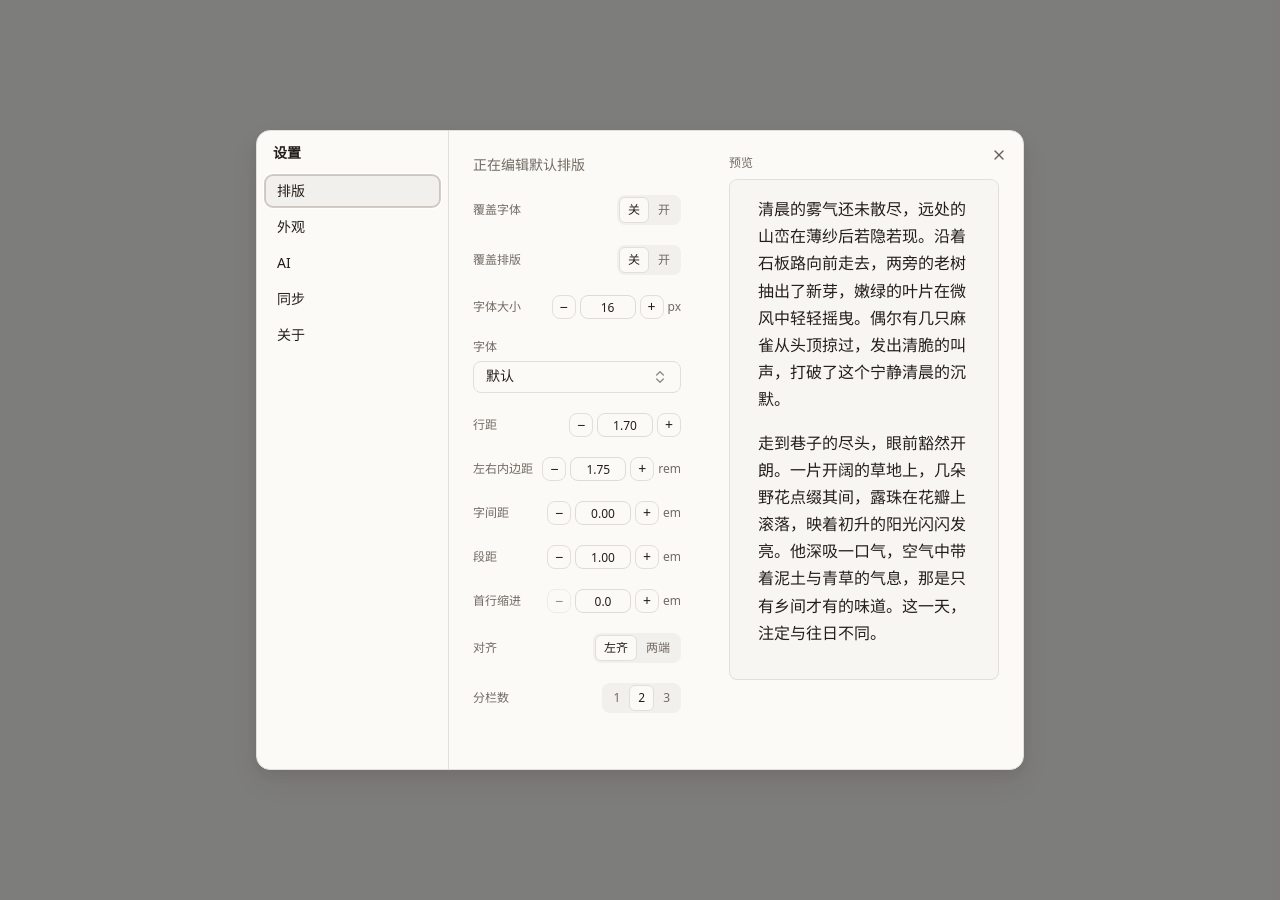
Test: SettingsDialog › commits a typed value on Enter and reverts on Escape without closing
Replace the text in the field named "字体大小" with "20": (608, 307) top-left (580, 295), bottom-right (636, 319)
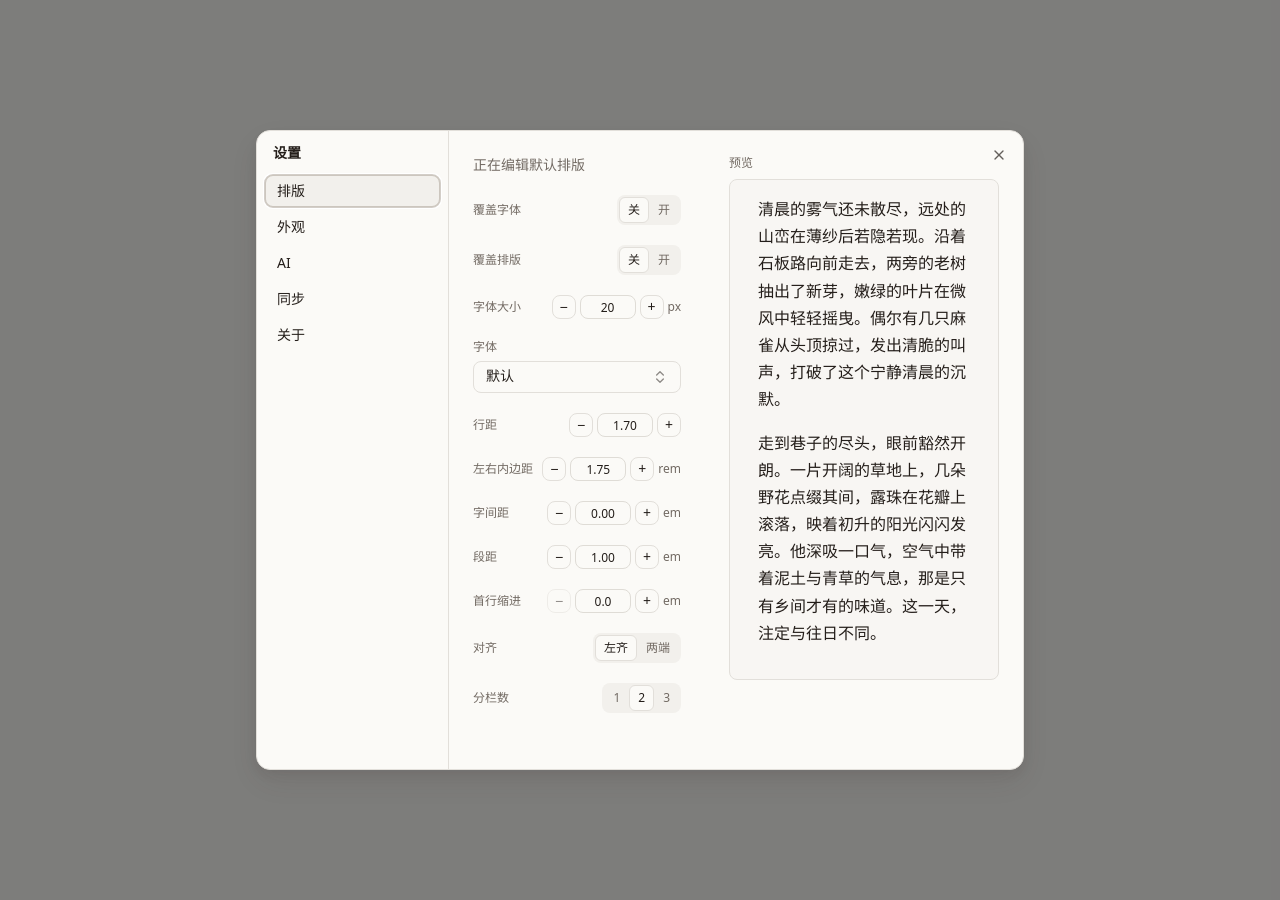
Press Enter in the field named "字体大小", box top-left (580, 295), bottom-right (636, 319)
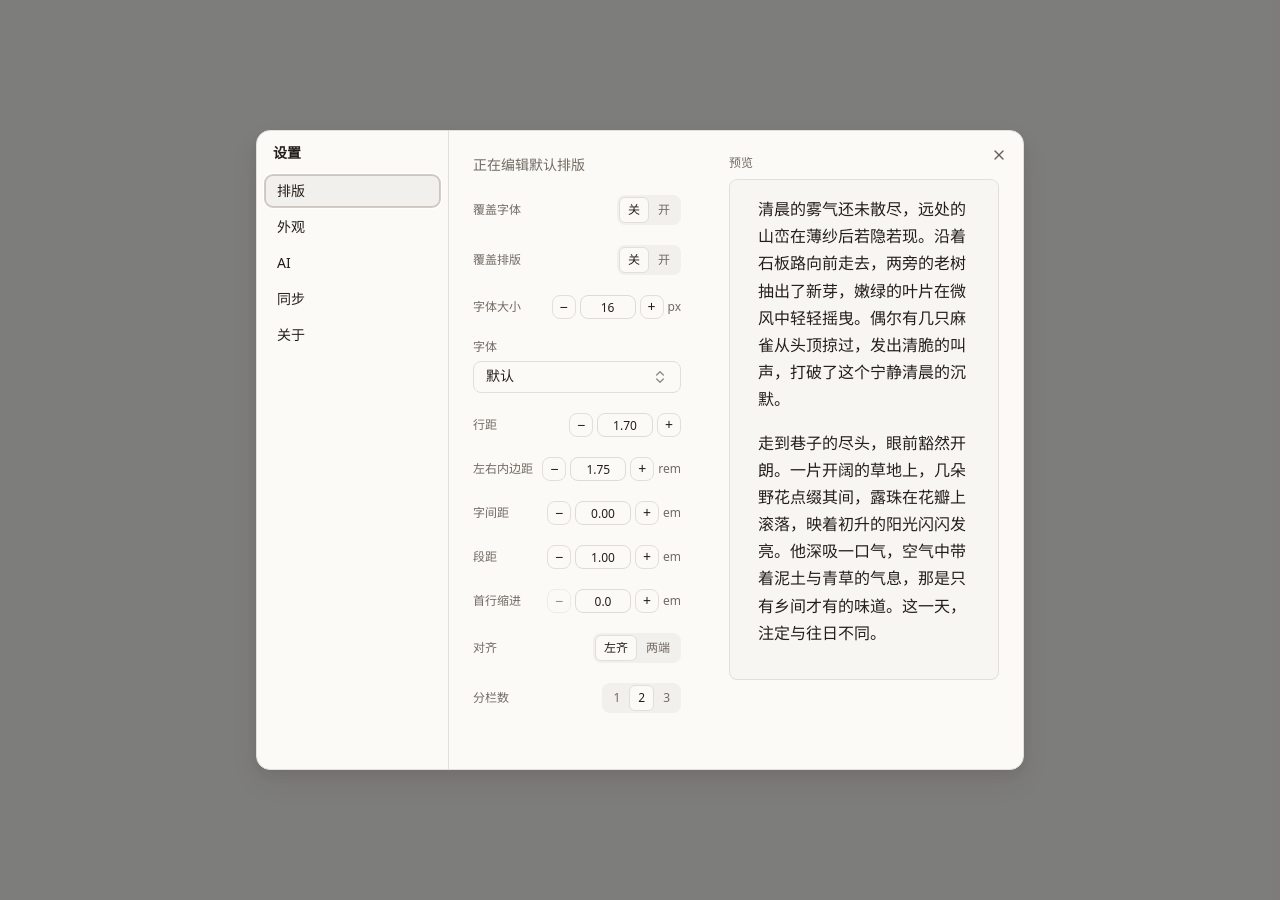
Replace the text in the field named "字体大小" with "22": (608, 307) top-left (580, 295), bottom-right (636, 319)
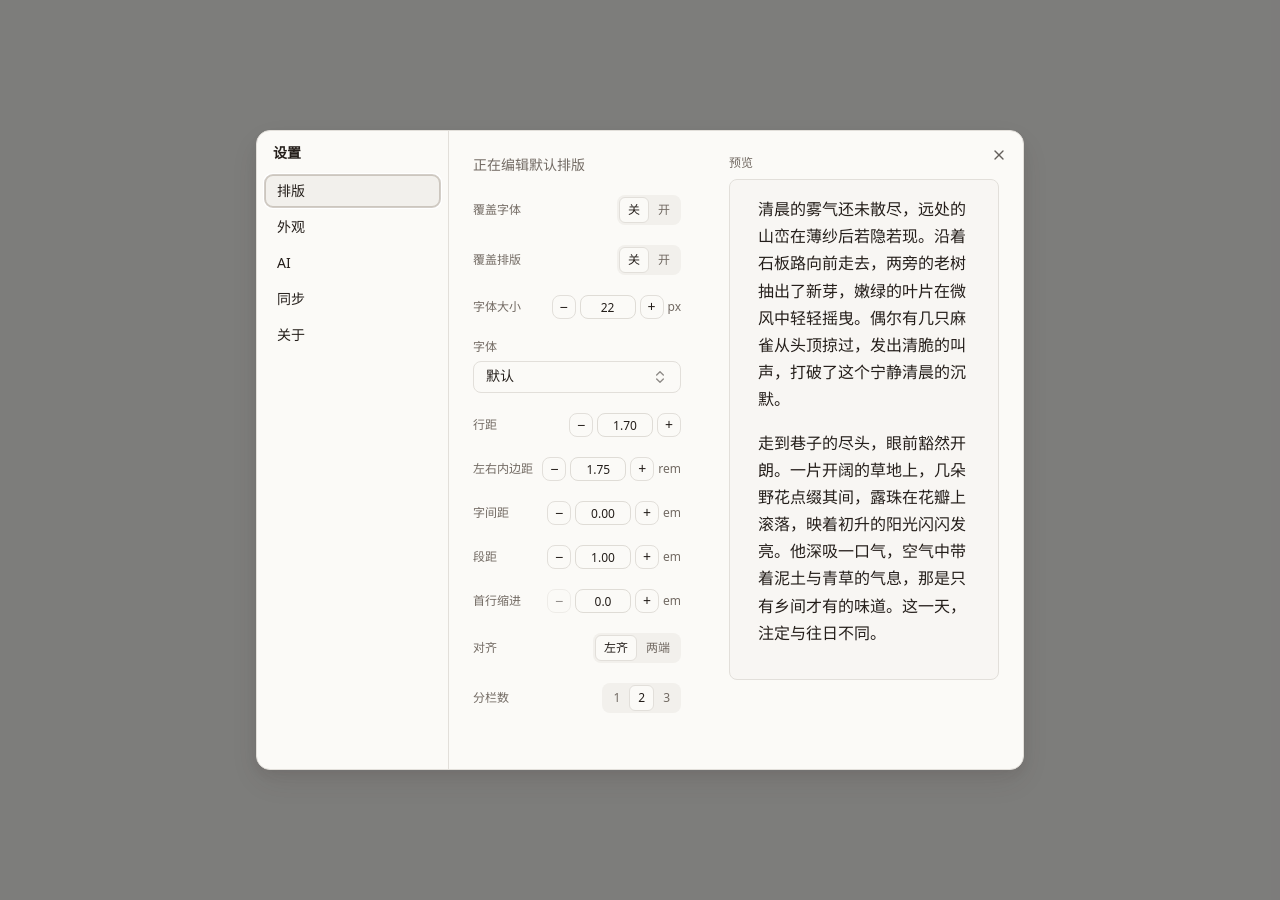
Press Escape in the field named "字体大小", box top-left (580, 295), bottom-right (636, 319)
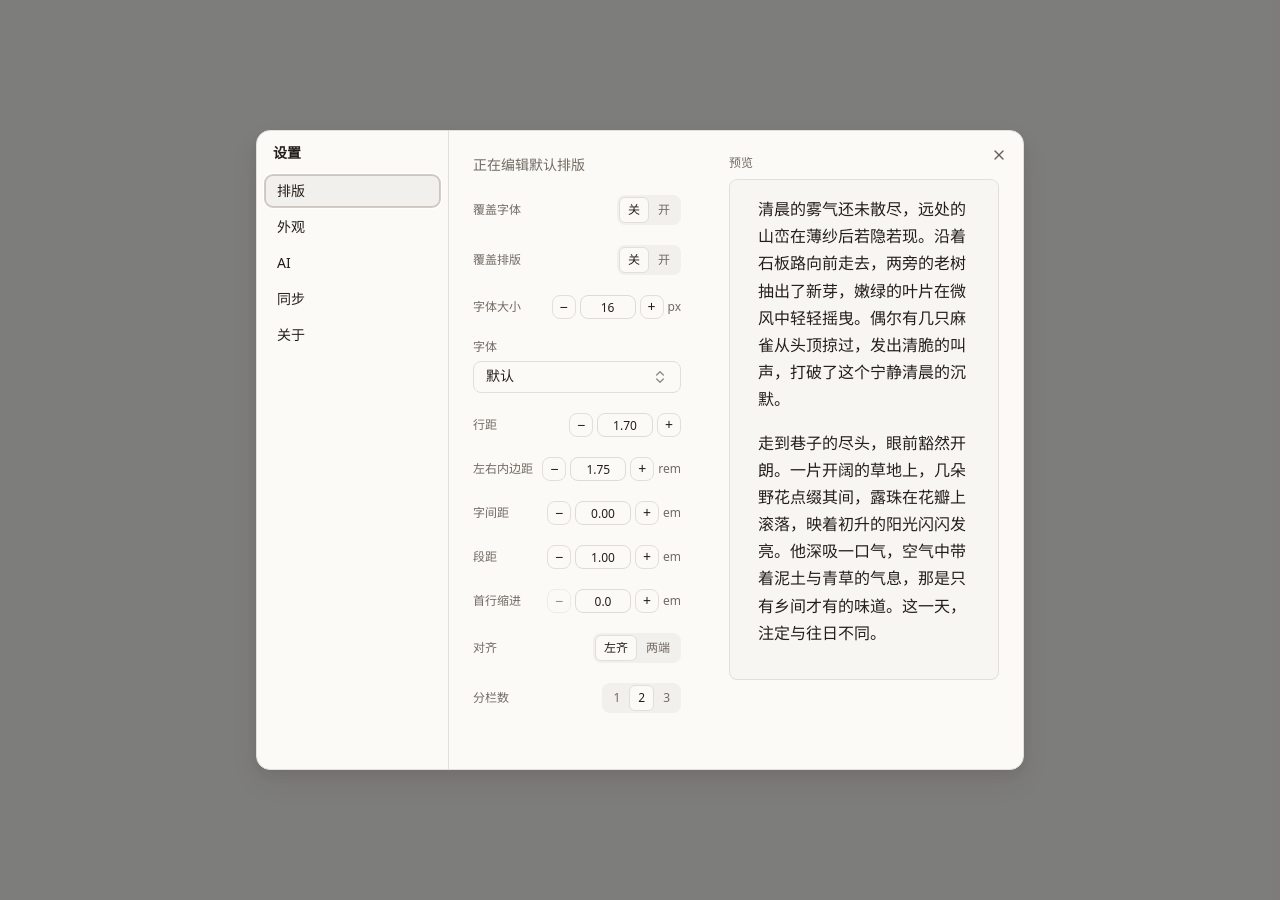
Expected: the dialog is shown, top-left (256, 130), bottom-right (1024, 770)
Now the field named "字体大小" holds "16", box top-left (580, 295), bottom-right (636, 319)
